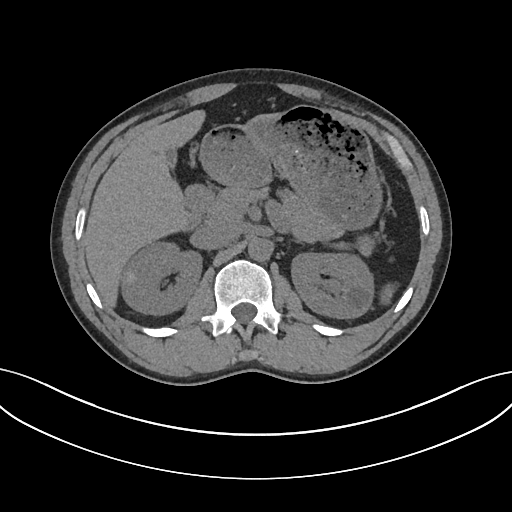Lesion: (122, 268, 137, 286)
